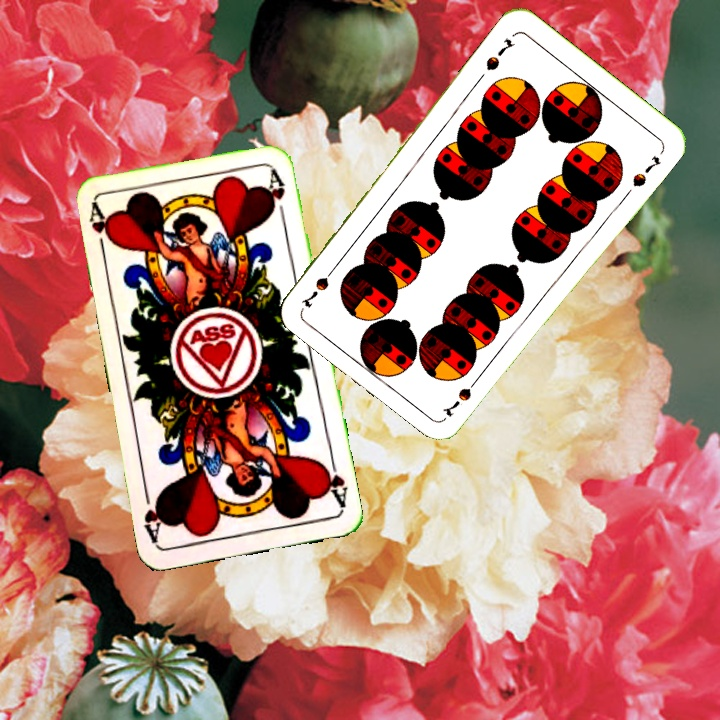HA: (317, 452, 350, 511), (84, 200, 116, 260)
S7: (439, 371, 484, 420), (481, 34, 518, 74)
